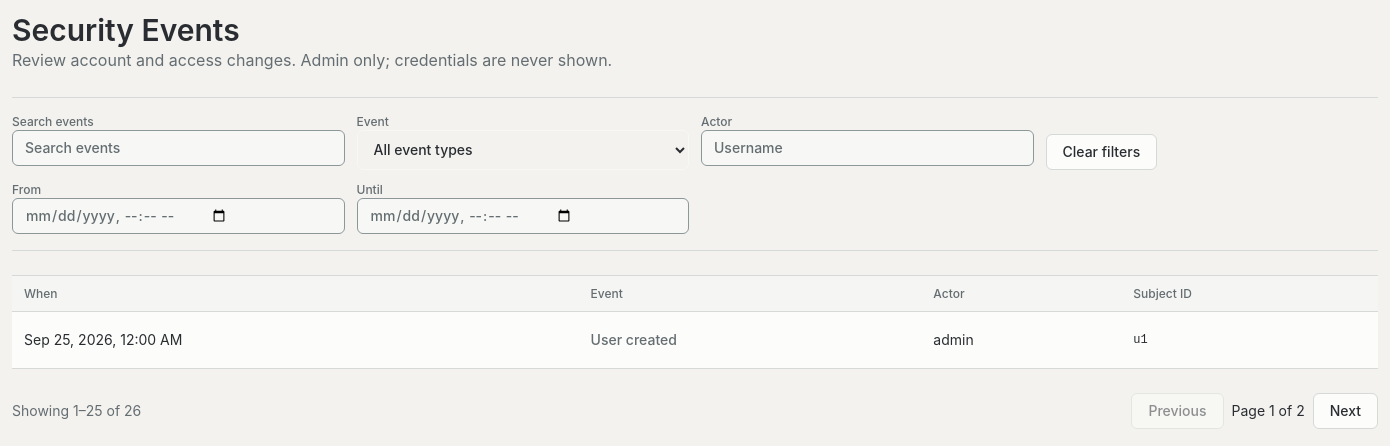
Security Events page › uses server-side pages and preserves filters while paging
Check: the button with aria-label "View details: User created" is shown, box [591,322,677,358]
Type "admin" into the field labelled "Actor" at (867, 148), box [701,130,1034,166]
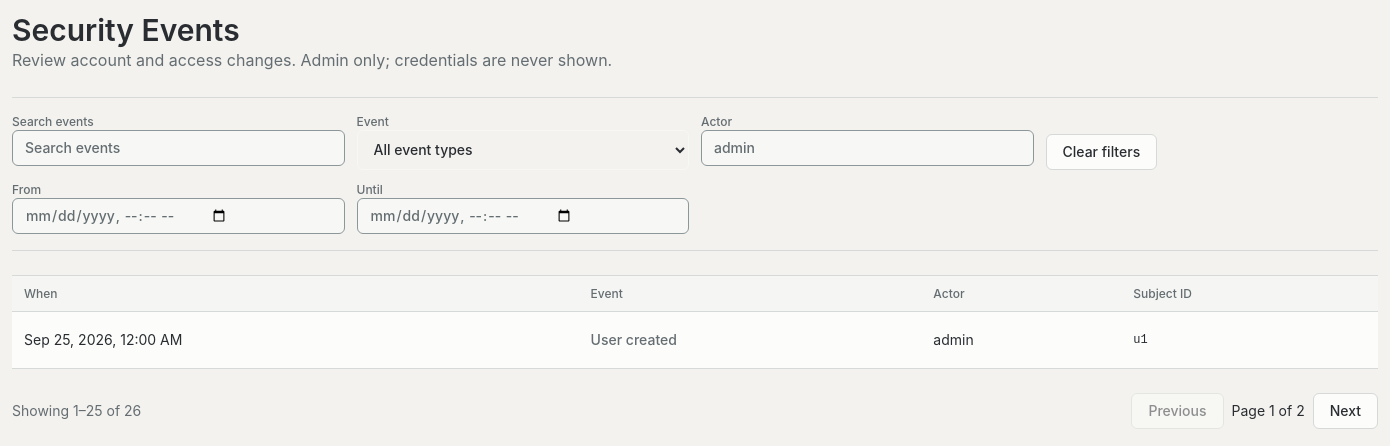
Click the button "Next" at (1345, 411), box [1313,393,1378,429]
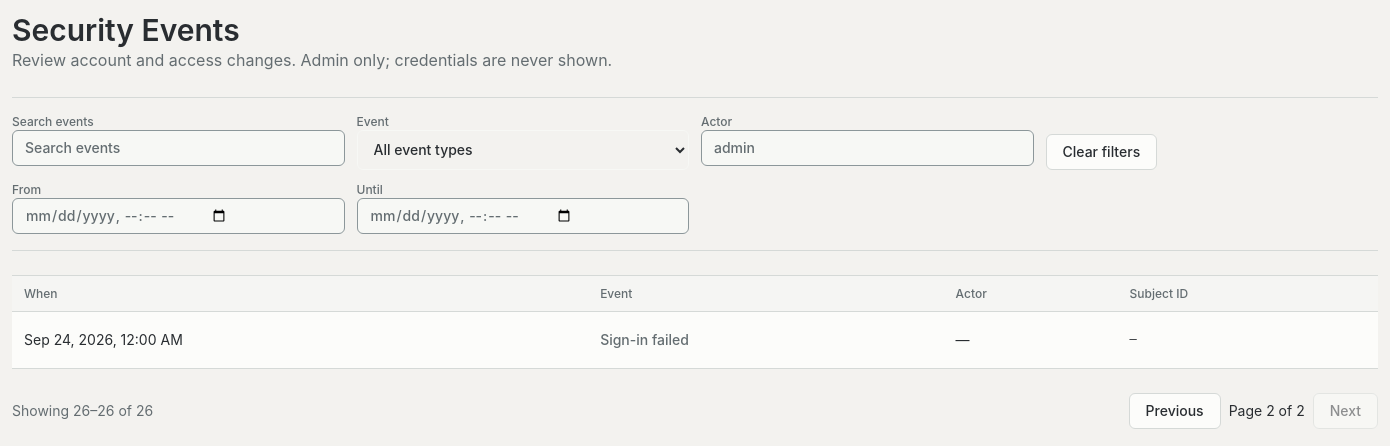
Check: the text "Page 2 of 2" is shown, box [1229,401,1305,421]
